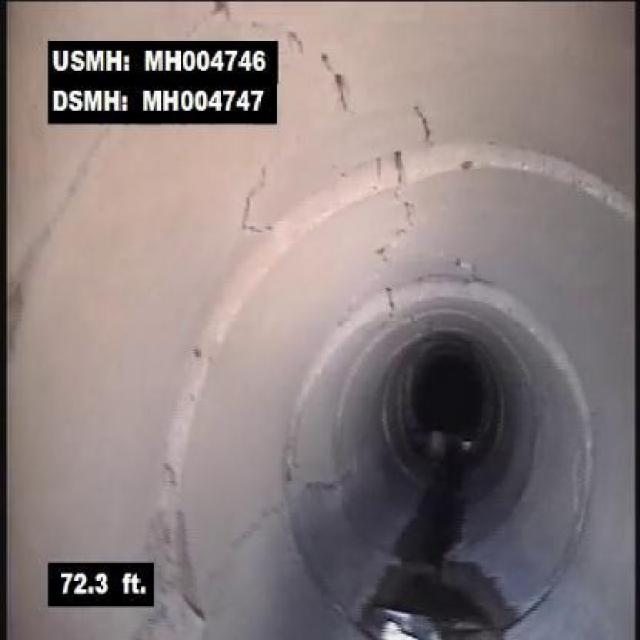Crack: (287, 28, 358, 118), (202, 502, 286, 578), (236, 163, 278, 237), (437, 238, 497, 277), (410, 102, 436, 144)
Joint offset: (285, 140, 623, 220)
